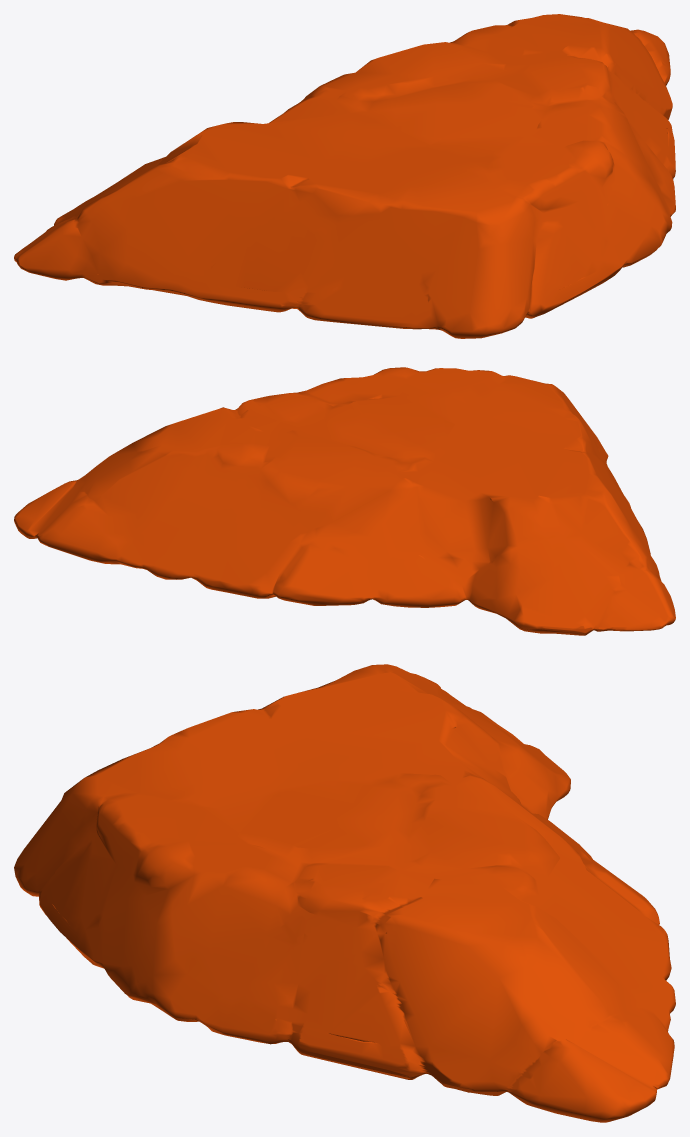
The picture shows the model from 3 angles, top to bottom: view 1: azimuth 30°, elevation 25°; view 2: azimuth 150°, elevation 25°; view 3: azimuth 270°, elevation 25°; orthographic projection. The views are drawn at different scales.
Parts seen in each view (by area): view 1: Mesh_53_LOD0; view 2: Mesh_53_LOD0; view 3: Mesh_53_LOD0.
Part boxes in pixels (x1=…): Mesh_53_LOD0: x1=14, y1=14, x2=675, y2=338; Mesh_53_LOD0: x1=14, y1=367, x2=675, y2=635; Mesh_53_LOD0: x1=14, y1=664, x2=675, y2=1122.
Size of what is drawn, in the model's own units: 5982 by 931 by 4138.
